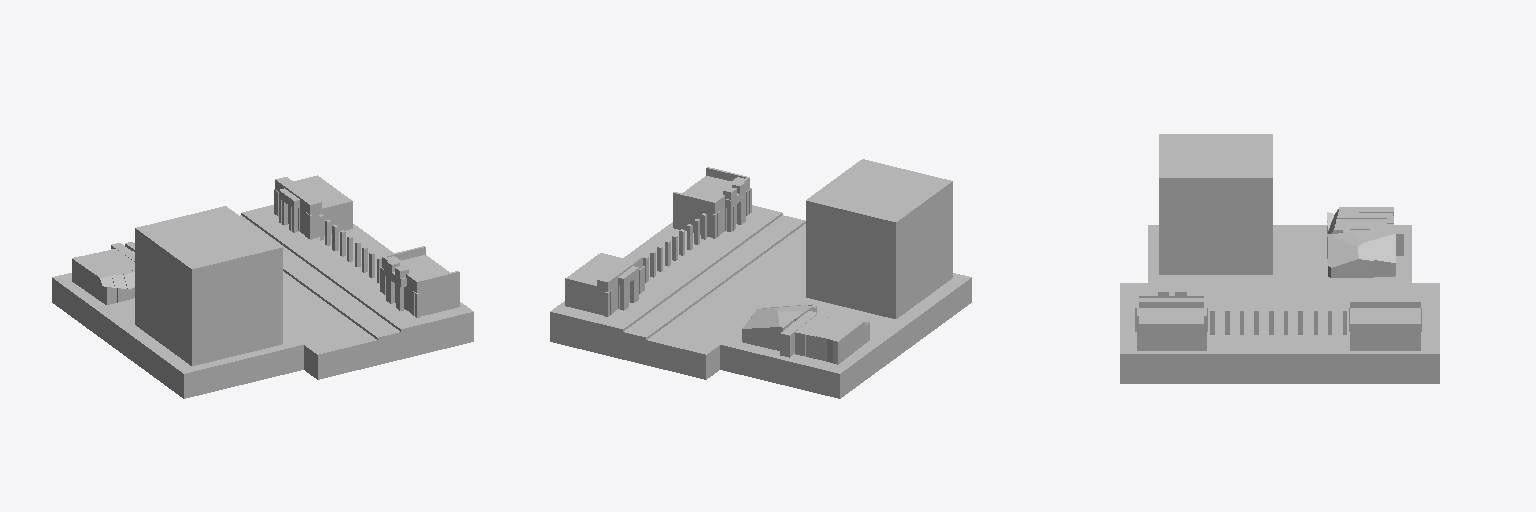
Rendered from V3 Parliment Building.obj.
The picture shows the model from 3 angles: view 1: azimuth 30°, elevation 25°; view 2: azimuth 150°, elevation 25°; view 3: azimuth 270°, elevation 25°; orthographic projection.
Bounding box in the file's own units: 115000 × 48600 × 115176.